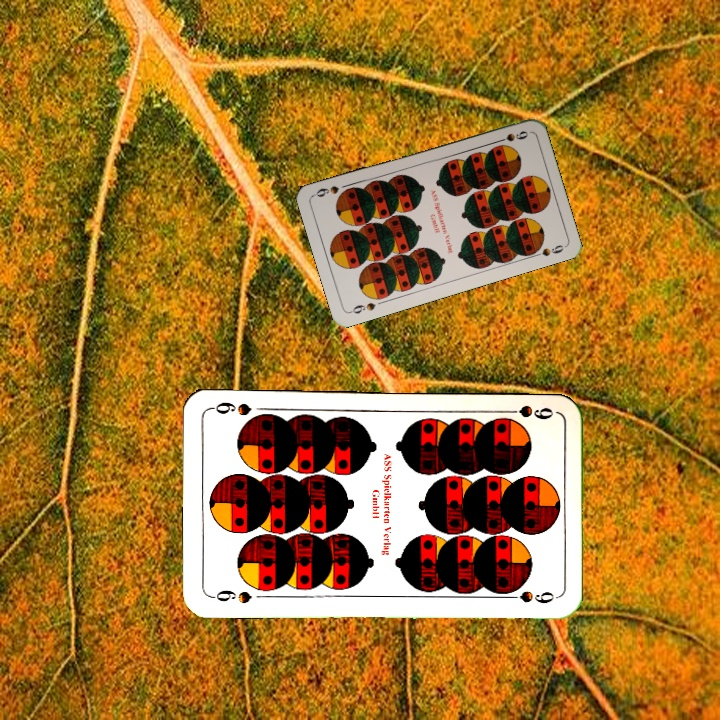S9: (498, 401, 556, 423), (207, 585, 254, 606), (491, 127, 531, 146), (346, 298, 378, 316)
